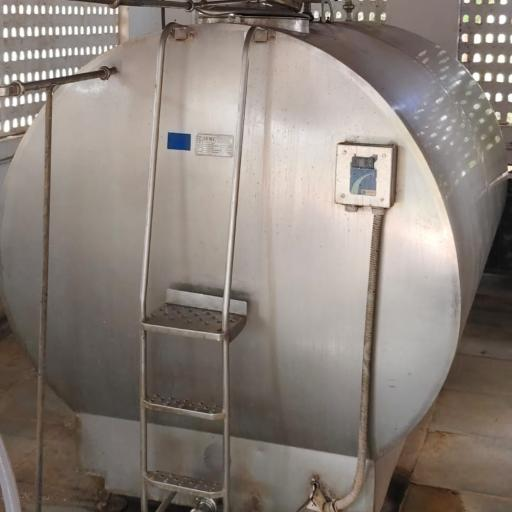silo: (0, 0, 507, 511)
